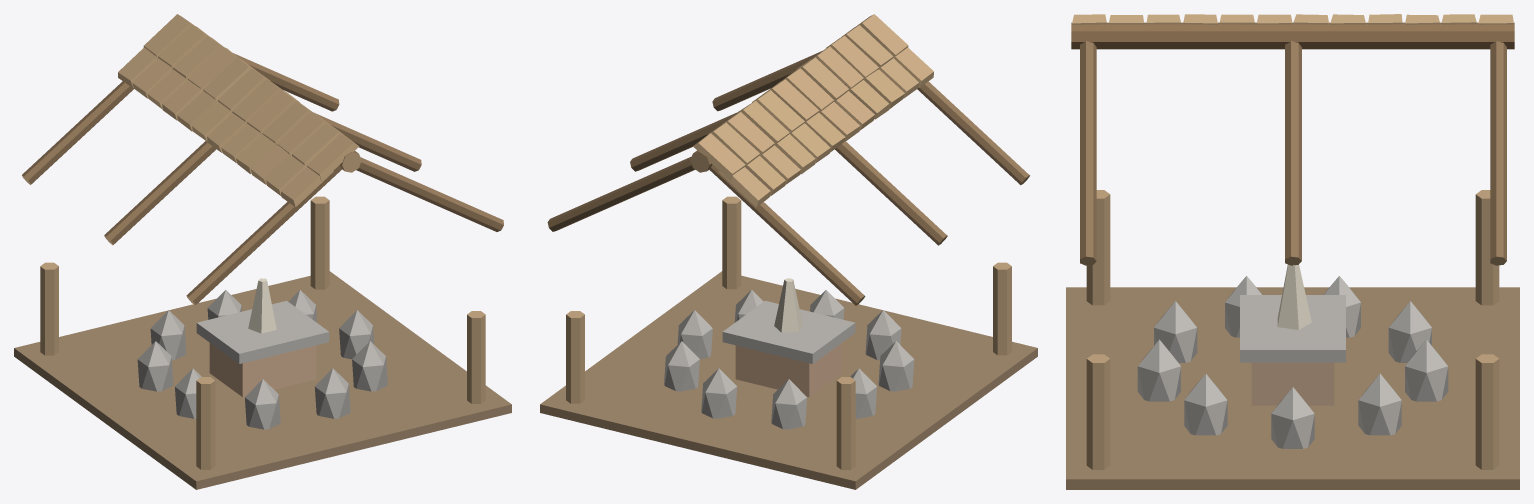
The model's file is building_shrine_half.glb.
3 renders of one model, left to right at view 1: azimuth 30°, elevation 25°; view 2: azimuth 150°, elevation 25°; view 3: azimuth 270°, elevation 25°, orthographic. The views are drawn at different scales.
Parts seen in each view (by area): view 1: building_shrine_half; view 2: building_shrine_half; view 3: building_shrine_half.
Boxes of the visible parts, box(x1,y1,x2,y2) form: building_shrine_half: box(14, 14, 511, 489); building_shrine_half: box(540, 14, 1037, 489); building_shrine_half: box(1066, 14, 1519, 489).
Size of the model in its own units: 3.85 by 3.57 by 3.85.
